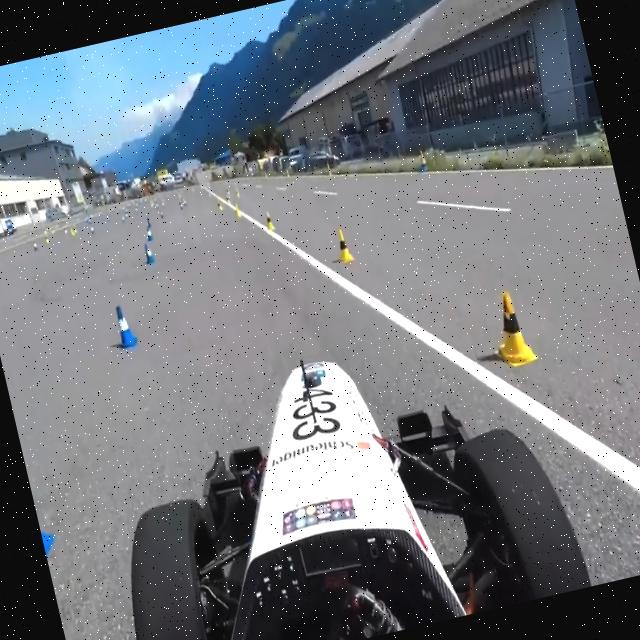blue_cone: (24, 454, 66, 576), (108, 300, 140, 350), (141, 239, 156, 266), (144, 225, 154, 241)
yellow_cone: (484, 283, 542, 374), (331, 222, 355, 264), (262, 208, 276, 234)
